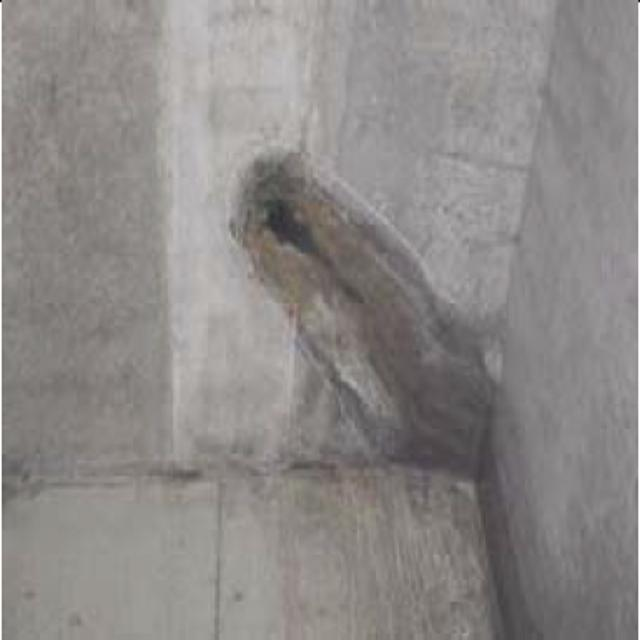leakage: (240, 133, 527, 488)
